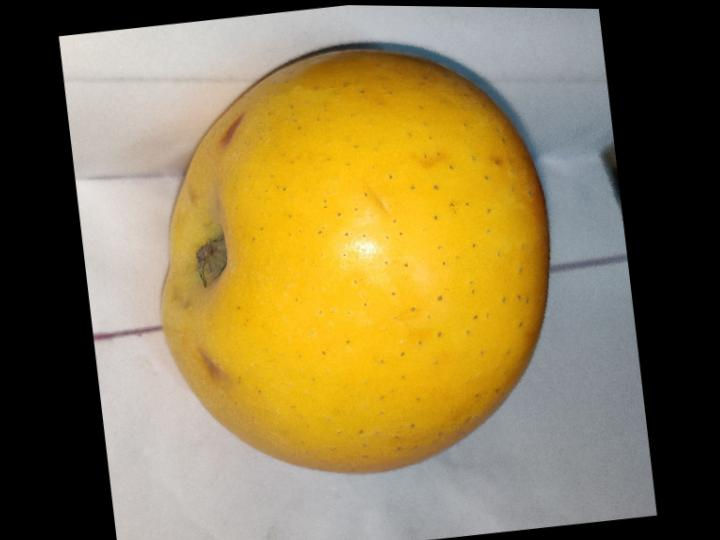apple: (163, 47, 548, 471)
surface_damage: (199, 348, 230, 388), (221, 113, 245, 145)
